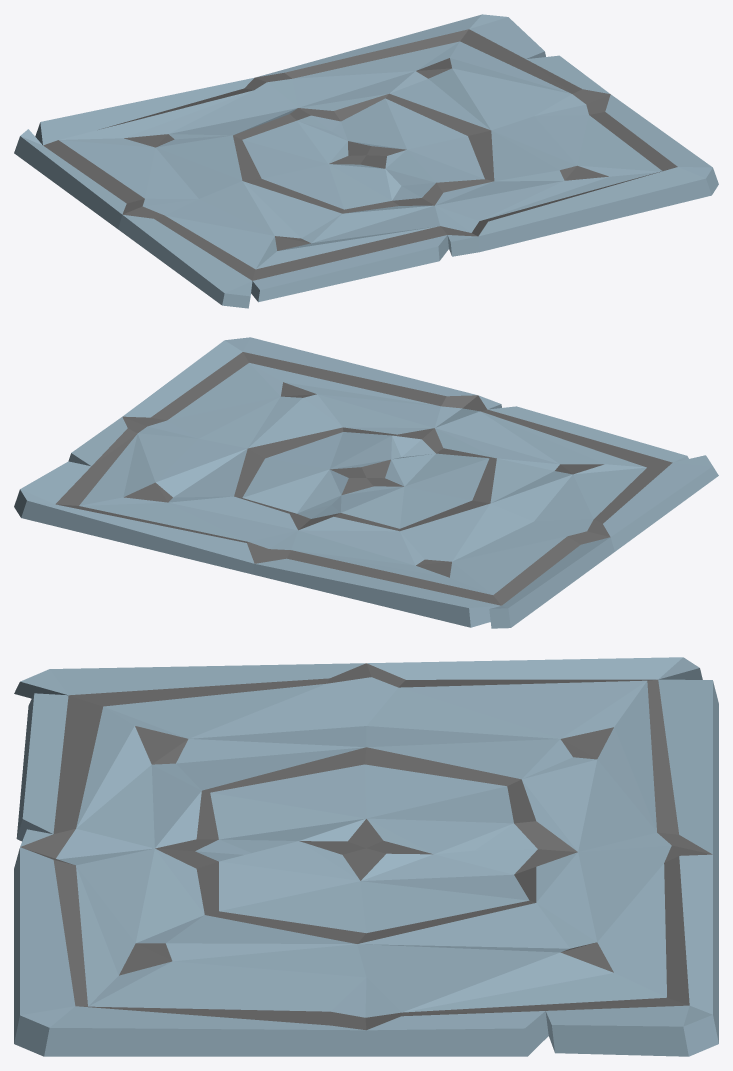
File: SquareRug_Blue.fbx
3 views of the same model, one above another, from view 1: azimuth 30°, elevation 25°; view 2: azimuth 150°, elevation 25°; view 3: azimuth 270°, elevation 25° (orthographic). The views are drawn at different scales.
Parts seen in each view (by area): view 1: SquareRug_Blue; view 2: SquareRug_Blue; view 3: SquareRug_Blue.
Part boxes in pixels (<box>): SquareRug_Blue: <box>14,14,718,308</box>; SquareRug_Blue: <box>14,337,718,628</box>; SquareRug_Blue: <box>14,657,718,1056</box>.
Bounding box in the file's own units: 10.8 × 0.4311 × 8.57.
